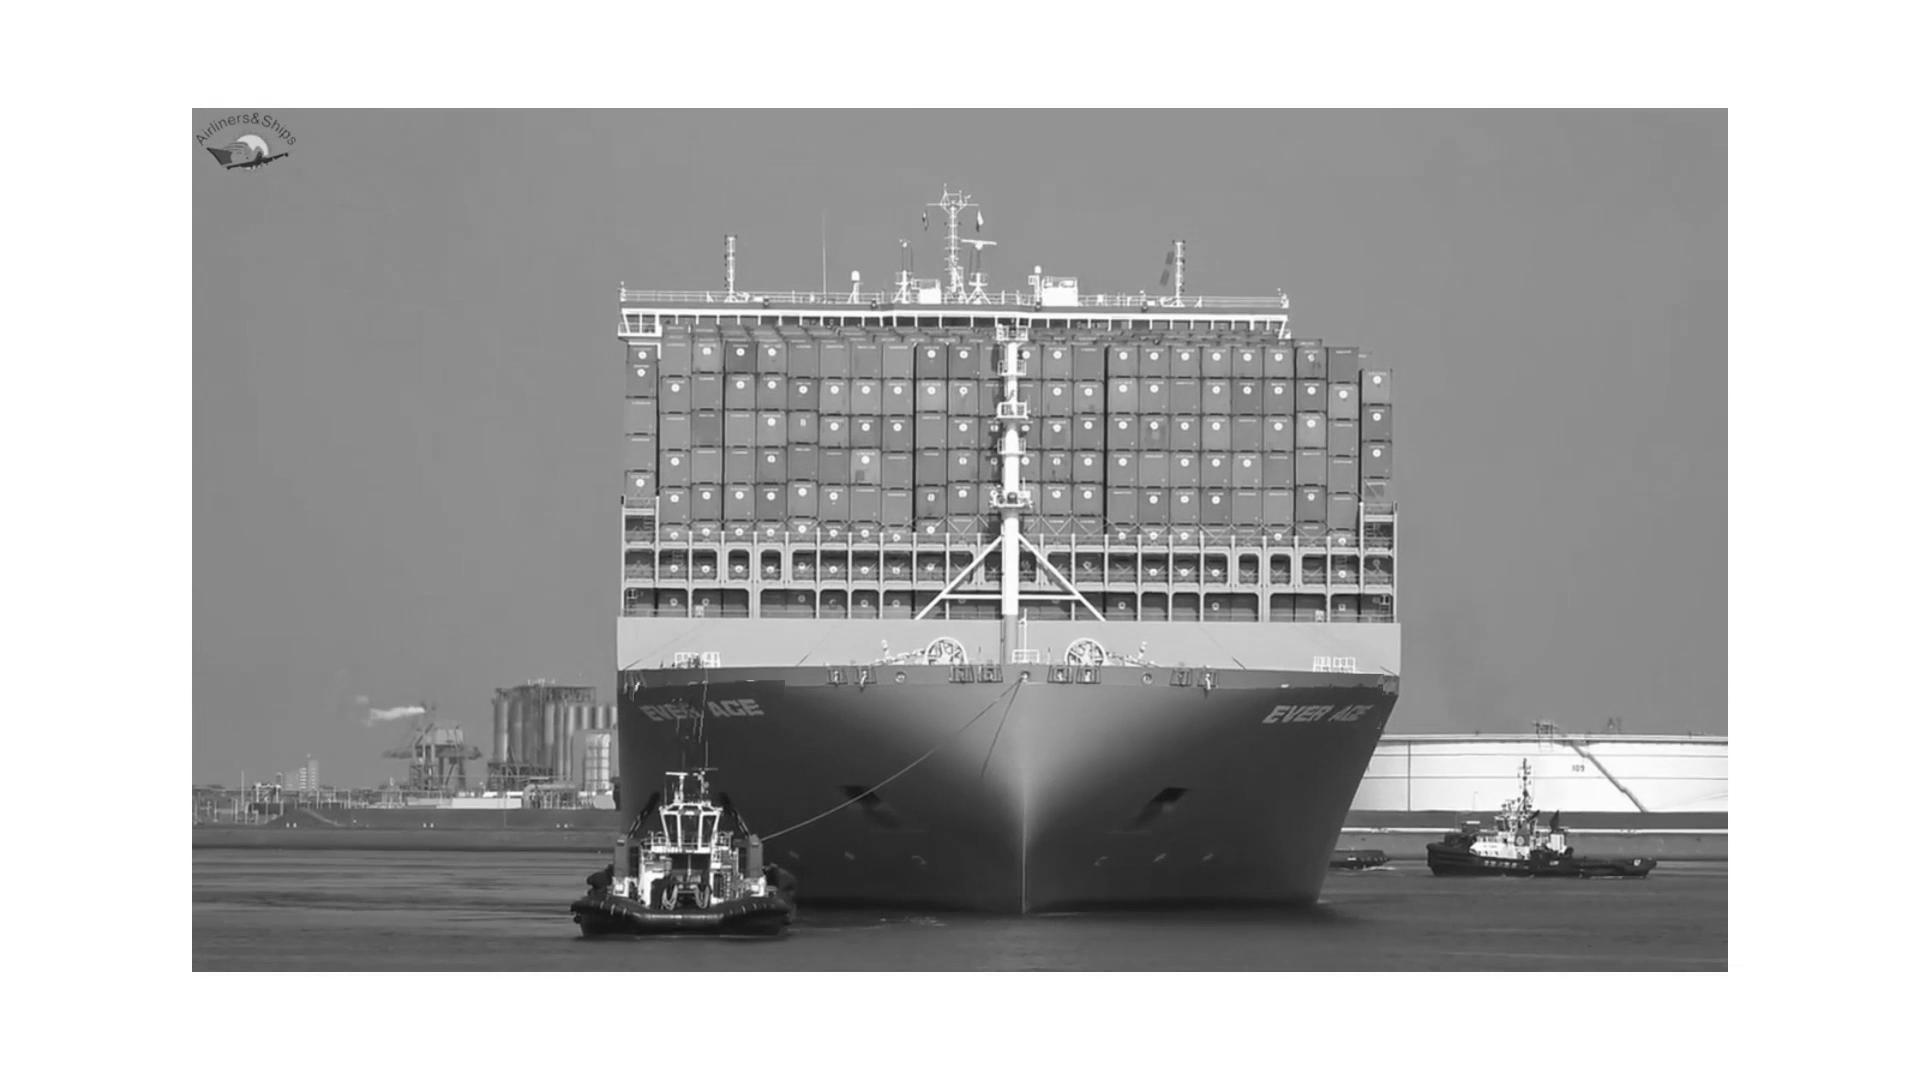OCR: (634, 680, 786, 746), (1247, 674, 1385, 736)
